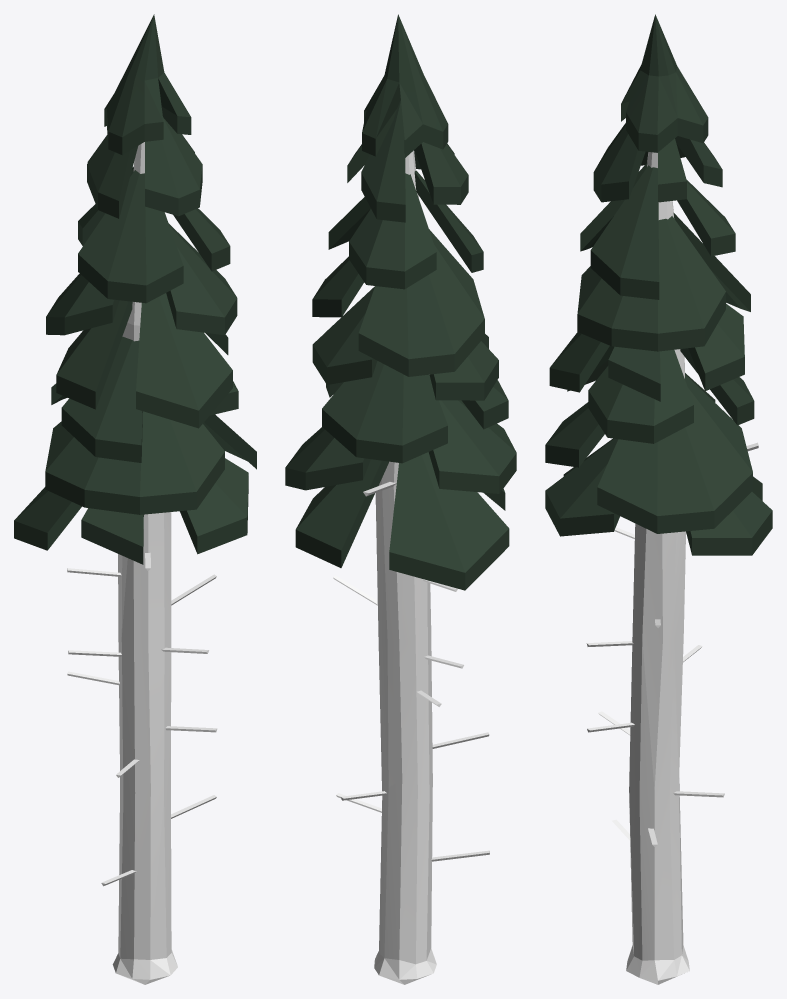
Rendered from Arbol_04.glb.
The picture shows the model from 3 angles, left to right: view 1: azimuth 30°, elevation 25°; view 2: azimuth 150°, elevation 25°; view 3: azimuth 270°, elevation 25°; orthographic projection.
Visible parts, largest first — view 1: SM_Env_Tree_Pine_Large_01_2; view 2: SM_Env_Tree_Pine_Large_01_2; view 3: SM_Env_Tree_Pine_Large_01_2.
Boxes of the visible parts, <box> form: SM_Env_Tree_Pine_Large_01_2: <box>14,14,256,984</box>; SM_Env_Tree_Pine_Large_01_2: <box>285,14,516,984</box>; SM_Env_Tree_Pine_Large_01_2: <box>545,14,772,984</box>.
Bounding box in the file's own units: 2.06 × 9.38 × 1.98.
Materials: 1 (1 with a texture image).
